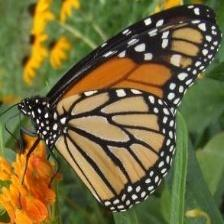butterfly: (19, 6, 222, 212)
